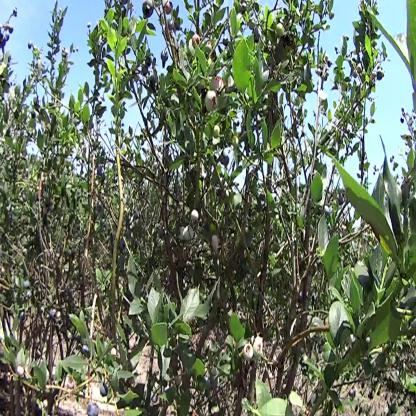intermediate: (241, 344, 256, 363), (193, 33, 203, 56), (110, 345, 119, 357)
mature: (142, 2, 155, 20), (86, 402, 100, 416), (221, 149, 230, 169), (100, 379, 109, 386)
young: (252, 332, 267, 363), (206, 88, 220, 116), (190, 208, 201, 228), (213, 123, 222, 140)
